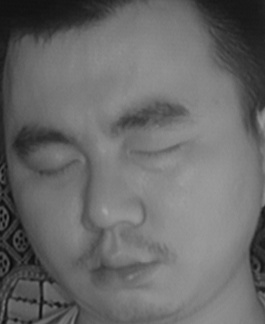blink: (131, 130, 187, 168), (29, 149, 83, 184)
mouth: (80, 241, 163, 294)
